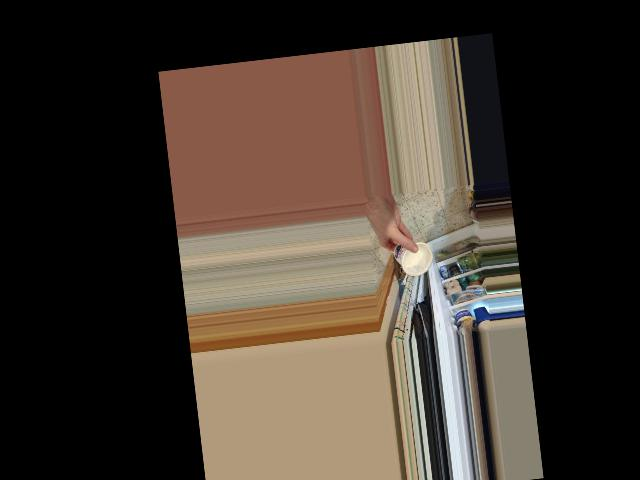cotage: (390, 235, 435, 282)
